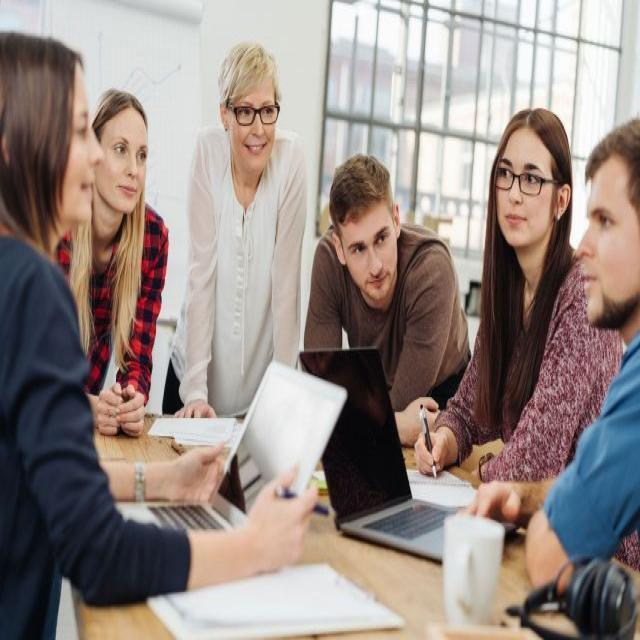Looking away: (0, 28, 101, 234), (575, 122, 640, 330)
Looking forward: (492, 130, 556, 250), (340, 200, 398, 302), (94, 110, 148, 218), (225, 79, 280, 173)
